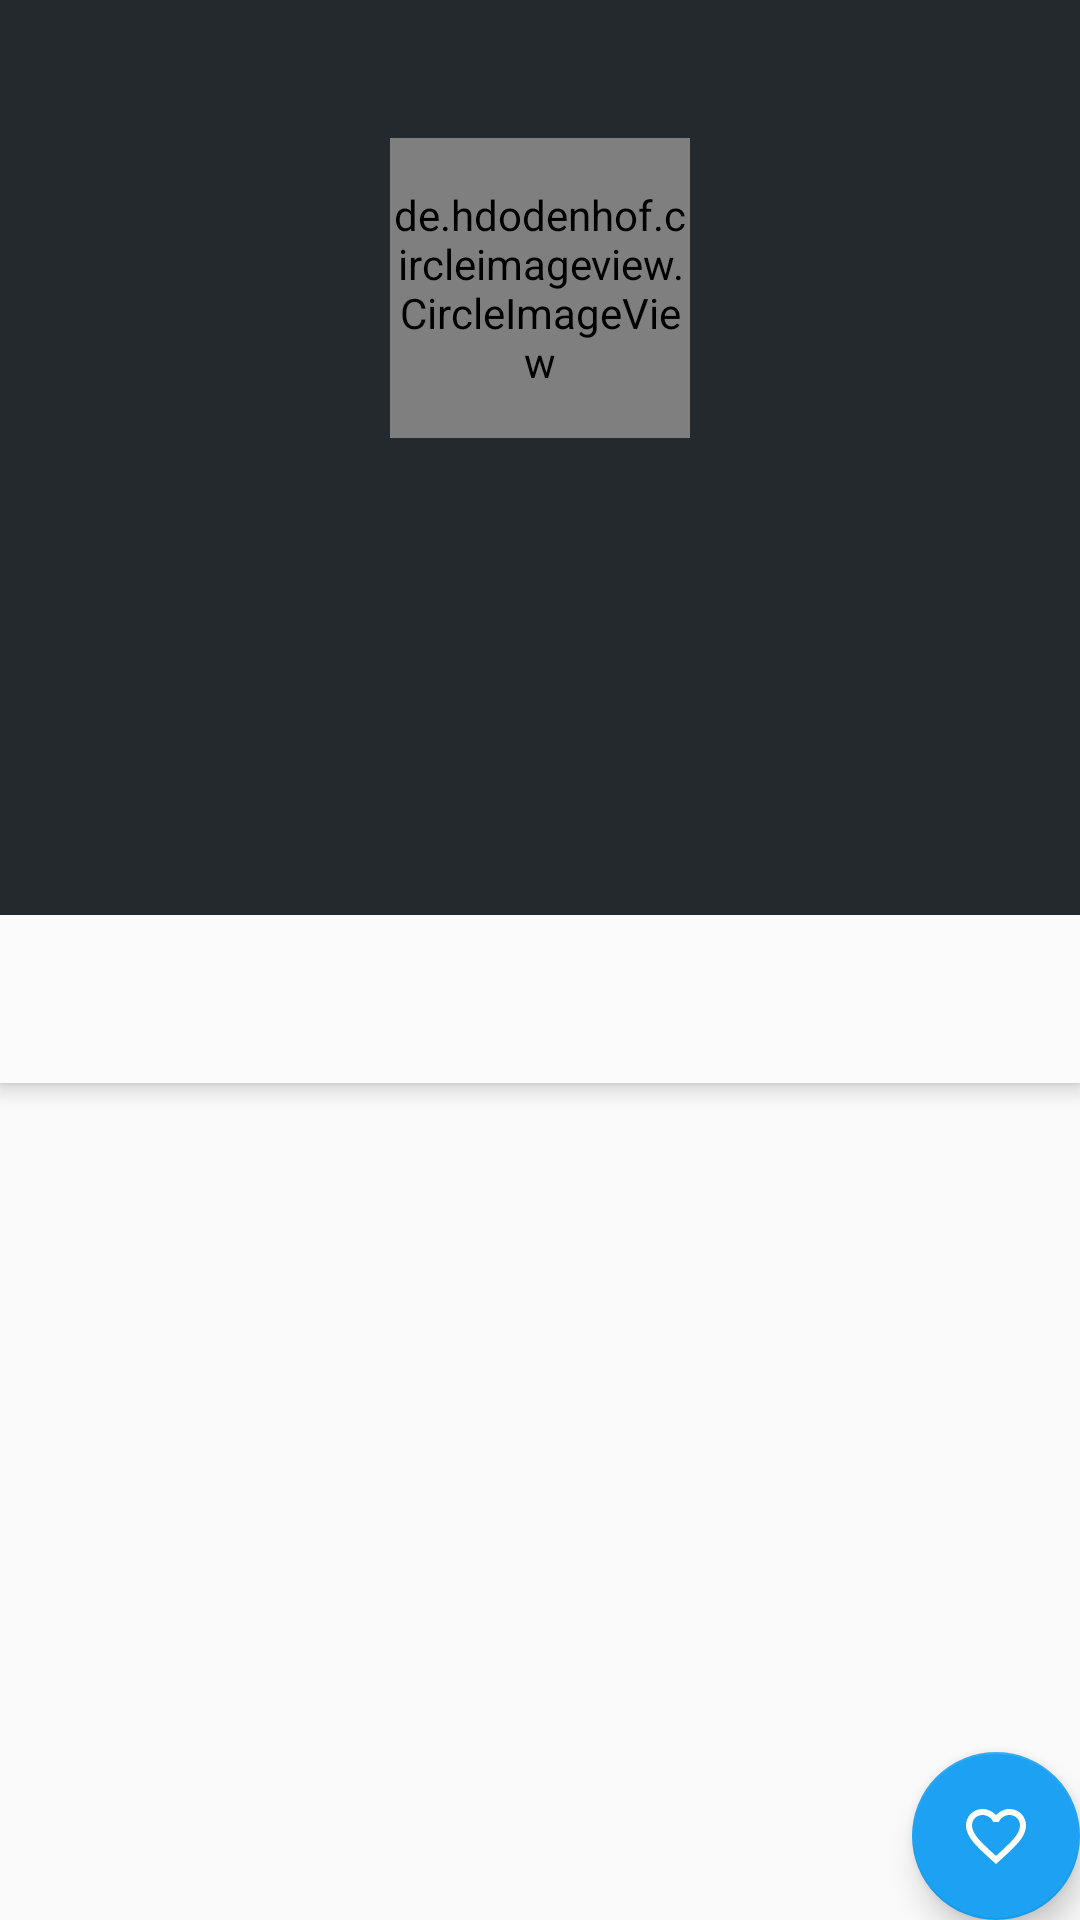

Point at icon controls on the screen. Image size 1080 x 1920, points as point (x, y).
favorite border: point (996, 1836)
